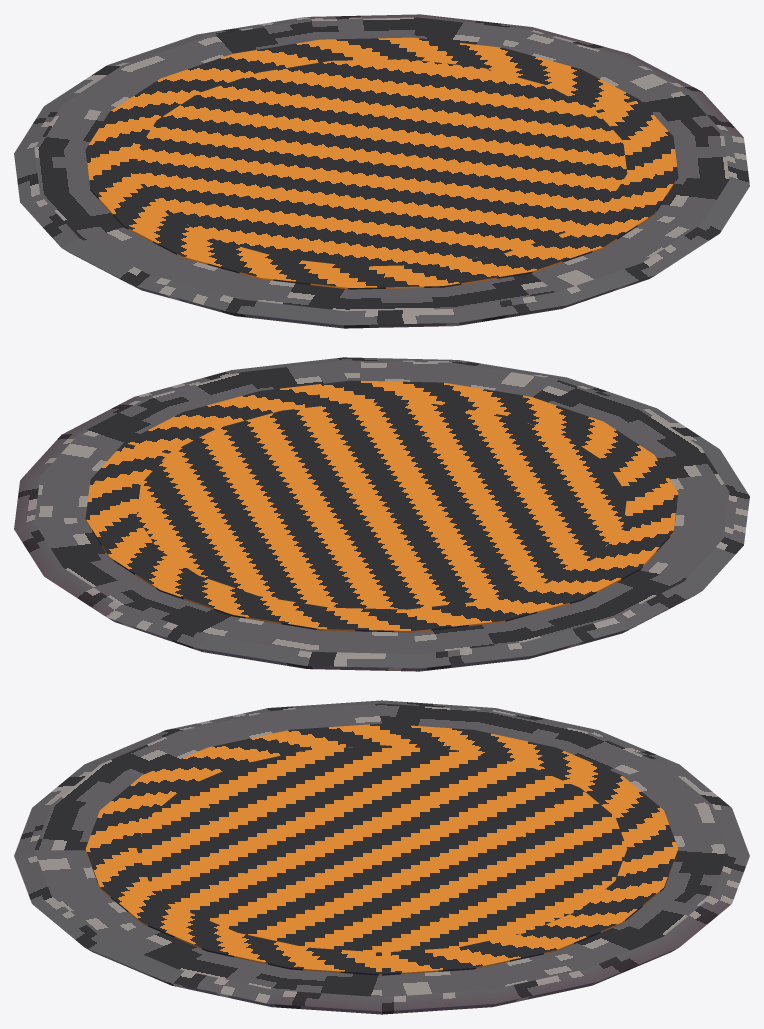
Rendered from stn.floor__pad.glb.
3 renders of one model, top to bottom at view 1: azimuth 30°, elevation 25°; view 2: azimuth 150°, elevation 25°; view 3: azimuth 270°, elevation 25°, orthographic.
Visible parts, largest first — view 1: kit_marks, kit_pad; view 2: kit_marks, kit_pad; view 3: kit_marks, kit_pad.
Boxes of the visible parts, x1,y1,x2,y2 form: kit_marks: [85, 37, 678, 289]; kit_pad: [14, 14, 749, 328]; kit_marks: [85, 380, 678, 632]; kit_pad: [14, 357, 749, 671]; kit_marks: [85, 723, 678, 975]; kit_pad: [14, 700, 749, 1014].
Size of the model in its own units: 3.6 by 0.078 by 3.6.
Materials: 2 (2 with a texture image).
